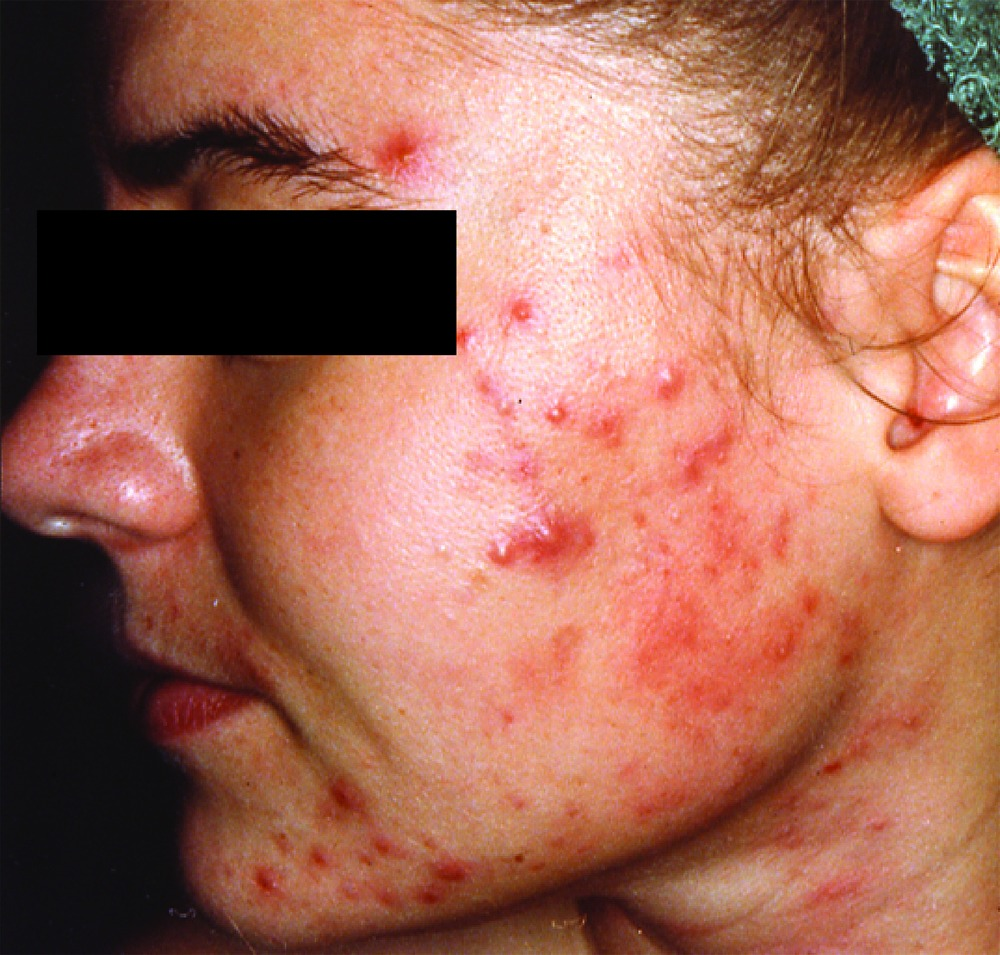Acne: (362, 106, 955, 923)
